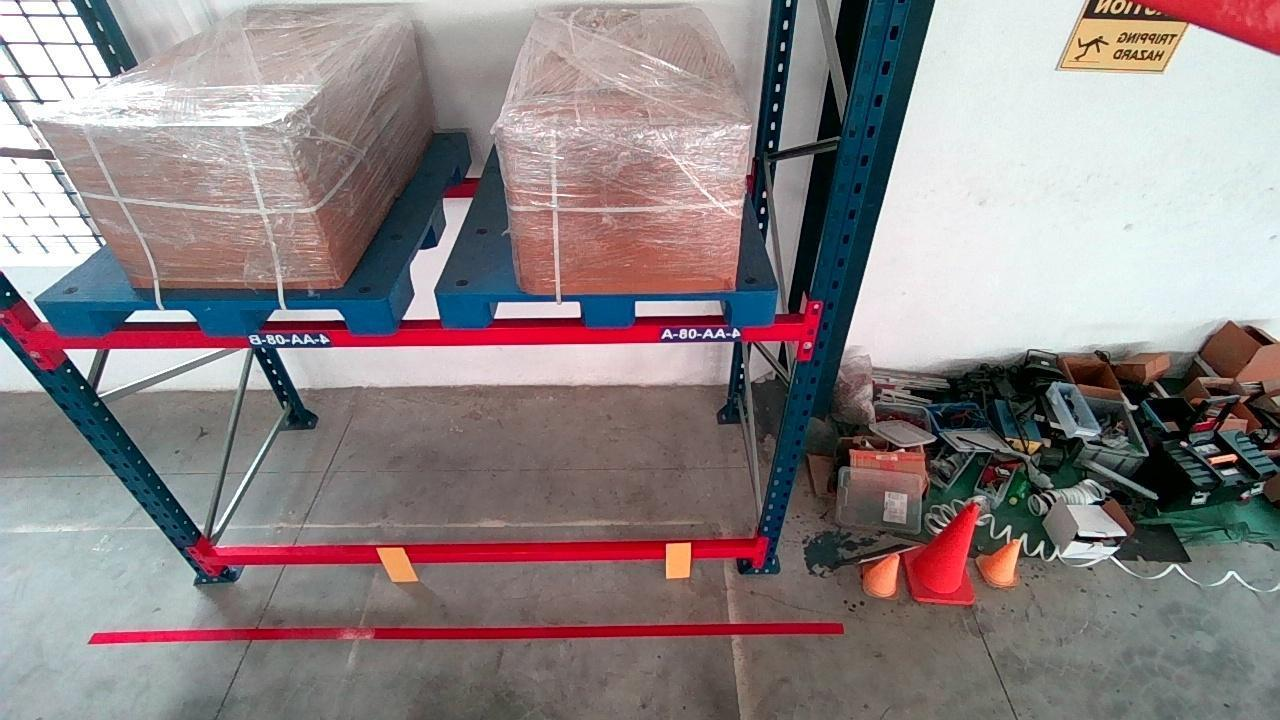h_rack: (34, 324, 803, 352), (211, 542, 752, 567), (44, 306, 393, 339)
orange_strip: (377, 545, 417, 582)
red_line: (91, 619, 842, 646)
small_pallet: (56, 296, 391, 336), (447, 292, 783, 327)
